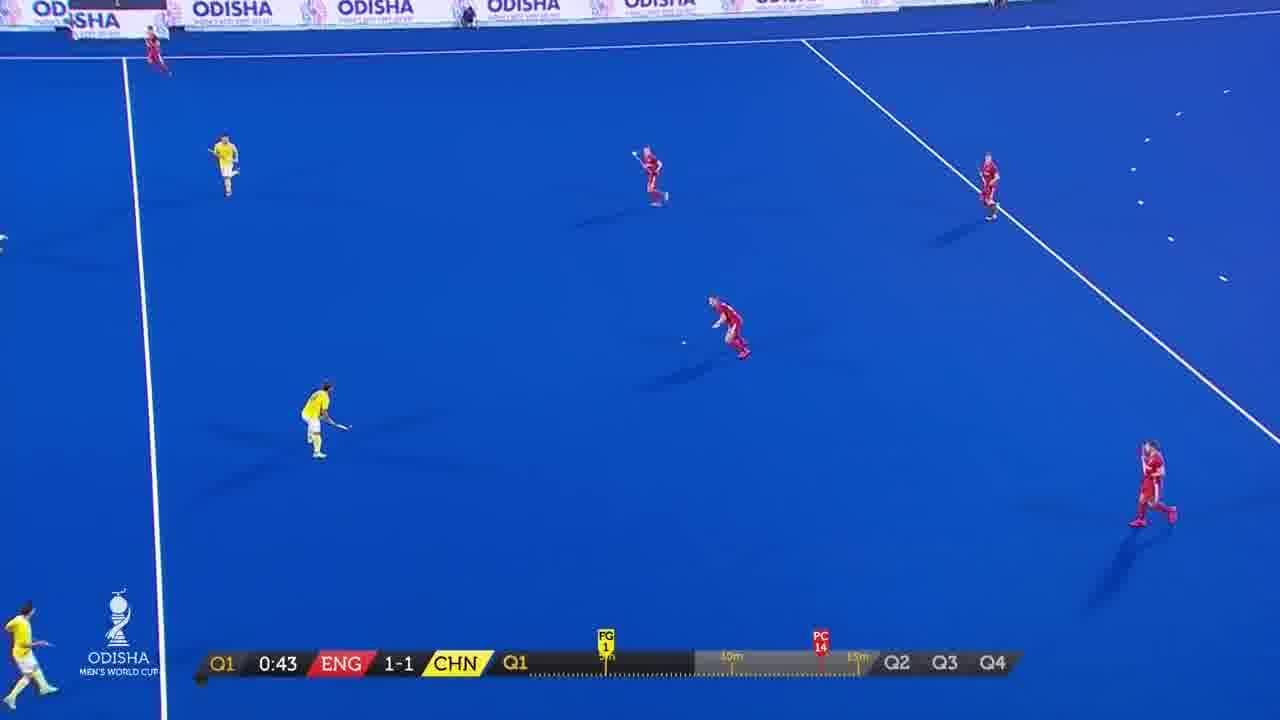ball: (679, 336, 689, 348)
